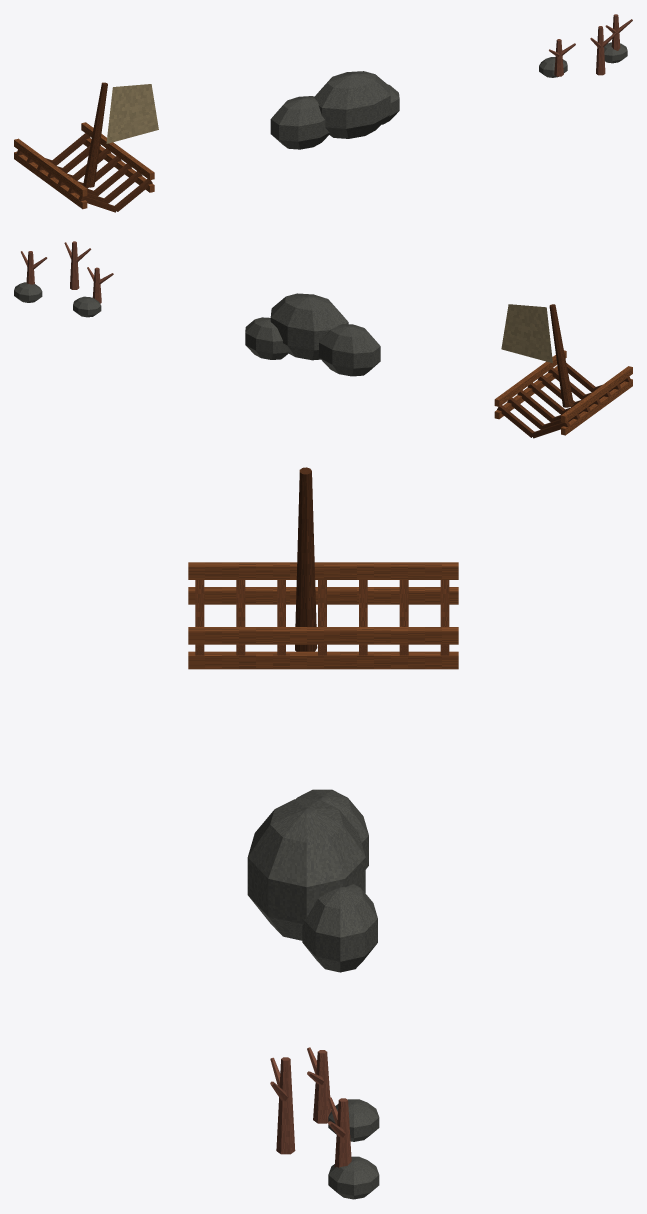
The model's file is KIT_galleon_cove.gltf.
3 views of the same model, one above another, from view 1: azimuth 30°, elevation 25°; view 2: azimuth 150°, elevation 25°; view 3: azimuth 270°, elevation 25° (orthographic). The views are drawn at different scales.
Visible parts, largest first — view 1: 01_wreck, 02_rock, 03_reef; view 2: 01_wreck, 02_rock, 03_reef; view 3: 01_wreck, 02_rock, 03_reef.
Boxes of the visible parts, <box> form: 01_wreck: <box>14,82,158,212</box>; 02_rock: <box>270,71,399,149</box>; 03_reef: <box>539,14,632,77</box>; 01_wreck: <box>494,304,632,438</box>; 02_rock: <box>245,293,380,376</box>; 03_reef: <box>14,241,113,317</box>; 01_wreck: <box>188,467,458,669</box>; 02_rock: <box>247,789,377,972</box>; 03_reef: <box>270,1047,379,1199</box>.
Size of the model in its own units: 12.73 by 2.42 by 2.58.
Materials: 6 (6 with a texture image).
